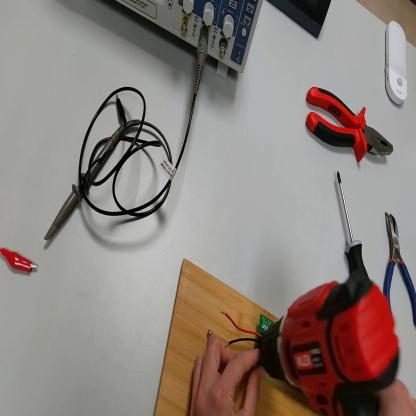electric screwdriver: (259, 268, 398, 416)
hand: (189, 335, 263, 414), (376, 375, 416, 415)
high voltage board: (222, 312, 275, 348)
oscilloscope: (96, 2, 265, 81)
oscilloscope probe tip: (44, 120, 142, 246)
pliers: (304, 77, 394, 172), (382, 208, 416, 328)
screwdriver-: (338, 169, 370, 282)
working area: (154, 259, 312, 416)
